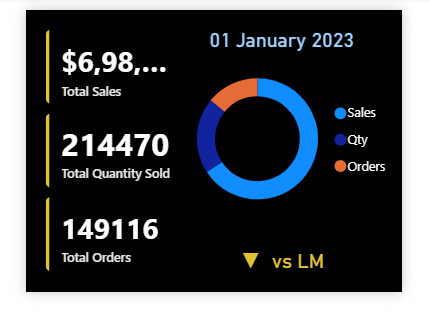

The page's visual inventory and layout, read from the dashboard file:
{"tool":"powerbi","page":{"name":"Tool Tip - Calender chart","canvas":[320,240],"ordinal":1},"visuals":[{"type":"cardVisual","fields":{"Data":["Transactions.Total Sales","Transactions.Total Quantity Sold","Transactions.Total Orders"]},"box":[0,0,152.1,240.4],"z":0},{"type":"donutChart","fields":{"Y":["Transactions.Total Sales","Transactions.Total Quantity Sold","Transactions.Total Orders"]},"box":[128,30,192,160],"z":1000},{"type":"card","fields":{"Values":["Min(Date Table.Date)"]},"box":[116,0,204,52],"z":2000},{"type":"card","fields":{"Values":["Transactions.MoM Growth & Diff Sales"]},"box":[116,188,204,52],"z":3000}]}

Visuals, with their boxes on the page's 320x240 design canvas (x1, y1, x2, y2). These are canvas units, not pixel positions in the 430x312 screenshot, which may show the page scaled, cropped or inside an application window:
cardVisual - Transactions.Total Sales x Transactions.Total Quantity Sold: crop(0, 0, 152, 240)
donutChart - Transactions.Total Sales x Transactions.Total Quantity Sold: crop(128, 30, 320, 190)
card - Min(Date Table.Date): crop(116, 0, 320, 52)
card - Transactions.MoM Growth & Diff Sales: crop(116, 188, 320, 240)
